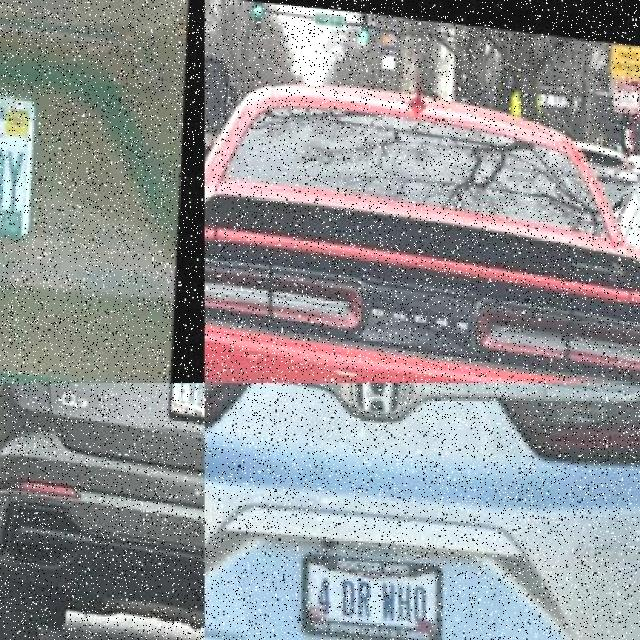licenseplate: (303, 548, 444, 638), (0, 77, 77, 235), (169, 383, 205, 417)
